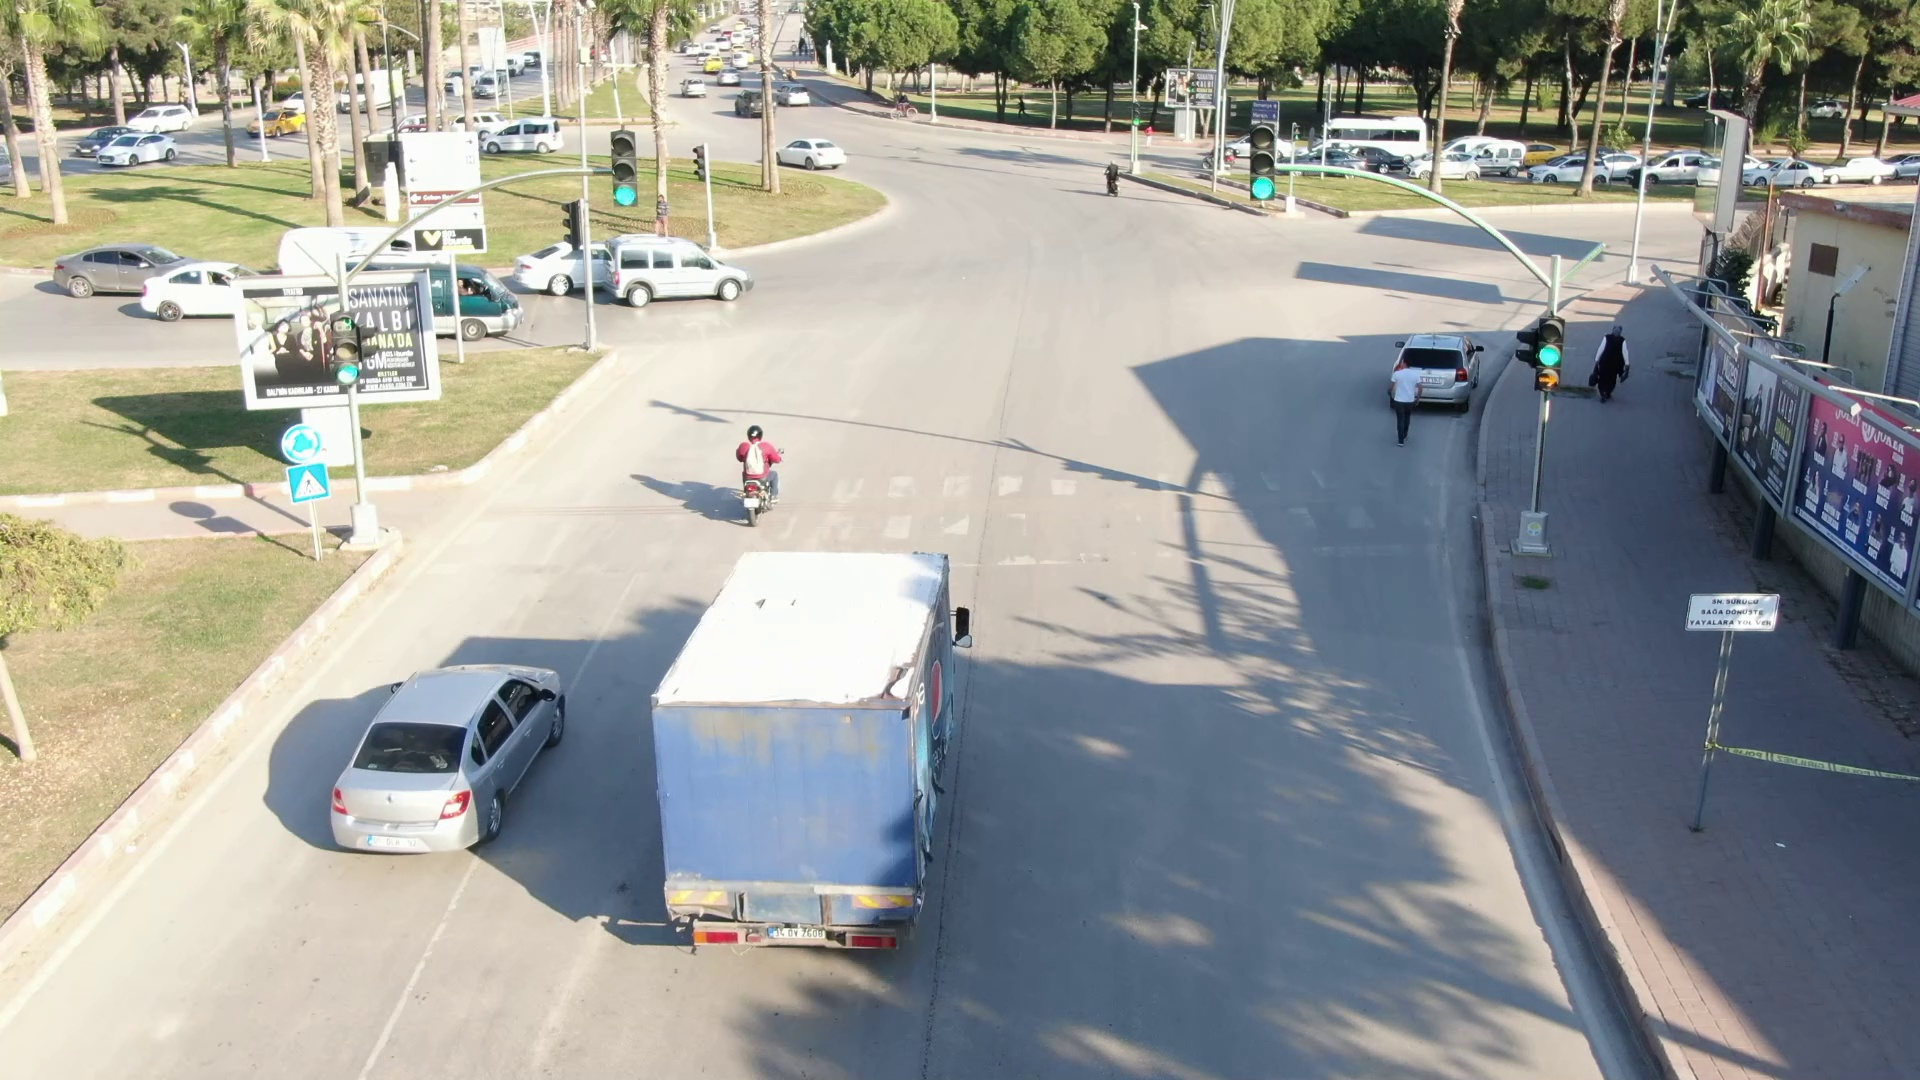car: (321, 626, 589, 861), (598, 232, 770, 307), (44, 228, 214, 303), (90, 129, 183, 171), (773, 131, 859, 175), (726, 83, 784, 118), (773, 81, 818, 109), (676, 71, 715, 100)
person: (727, 411, 793, 496), (1374, 349, 1427, 451), (1586, 315, 1635, 405)
